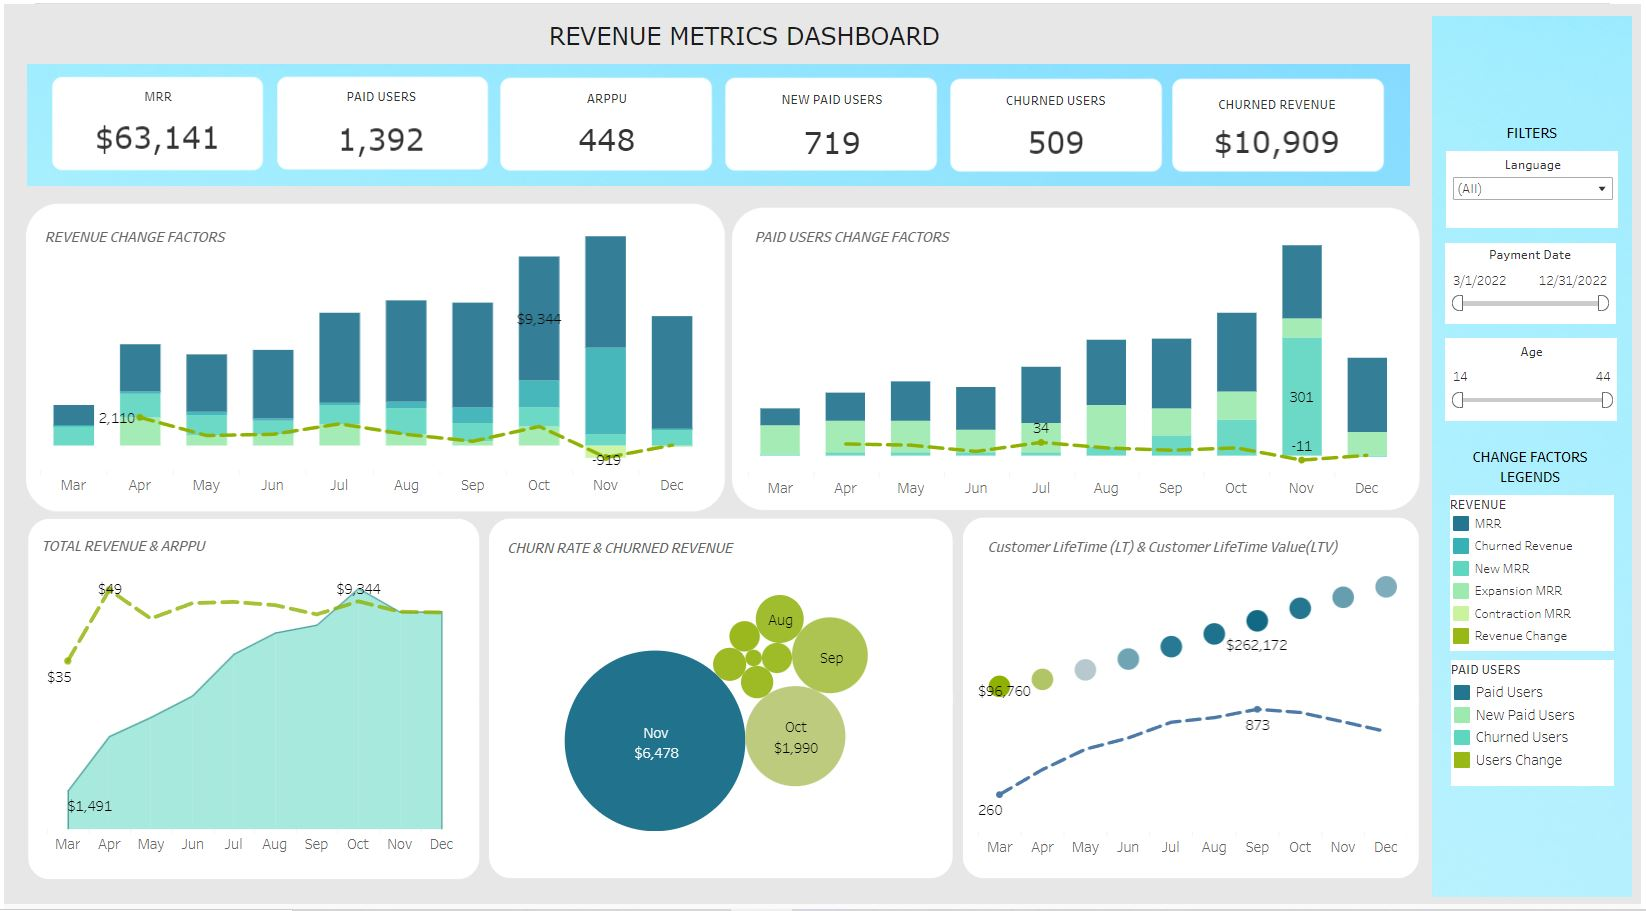

What the dashboard file says about the page in this screenshot:
{"tool":"tableau","page":{"name":"Dashboard","canvas":[1455,800],"ordinal":0},"visuals":[{"type":"image","param":"Image/vivid-blurred-colorful-background.jpg","box":[1269,11,178,783]},{"type":"image","param":"Image/vivid-blurred-colorful-background.jpg","box":[20,53,1230,109]},{"type":"worksheet","title":"MRR","mark":"Automatic","box":[55,68,164,68]},{"type":"worksheet","title":"PAID USERS","mark":"Automatic","box":[263,68,145,72]},{"type":"worksheet","title":"ARPPU","mark":"Automatic","box":[470,70,132,68]},{"type":"worksheet","title":"NEW PAID USERS","mark":"Automatic","box":[660,71,152,72]},{"type":"worksheet","title":"CHURNED USERS","mark":"Automatic","box":[861,72,148,69]},{"type":"worksheet","title":"CHURNED REVENUE","mark":"Automatic","box":[1057,75,149,63]},{"type":"image","param":"Image/Orange Cute Website Analytics Report Statistical Graph.png","box":[593,79,720,540]},{"type":"text","box":[1285,91,146,47]},{"type":"blank","box":[1282,131,153,68]},{"type":"filter","title":"Revenue Change Factors","param":"[federated.1a7kumc030pqyh192tyec12khk0i].[none:language:nk]","box":[1287,135,144,63]},{"type":"text","box":[36.4,192,241.1,30]},{"type":"text","box":[667.2,192,340.9,30]},{"type":"worksheet","title":"Revenue Change Factors","mark":"Line","rows":["Calculation_392587247909769312"],"cols":["payment_date"],"box":[32,196,591,253]},{"type":"worksheet","title":"Users Change Factors","mark":"Line","rows":["Calculation_1051660906000449656"],"cols":["payment_date"],"box":[661,204,579,234]},{"type":"blank","box":[1281,212,152,72]},{"type":"filter","title":"Users Change Factors","param":"[federated.1a7kumc030pqyh192tyec12khk0i].[none:payment_date:qk]","box":[1284,215,145,68]},{"type":"blank","box":[1281,297,153,74]},{"type":"filter","title":"Revenue Change Factors","param":"[federated.1a7kumc030pqyh192tyec12khk0i].[none:age:qk]","box":[1284,301,148,64]},{"type":"text","box":[1283,388,147,47]},{"type":"image","param":"Image/Orange Cute Website Analytics Report Statistical Graph.png","box":[394,389,487,364]},{"type":"image","param":"Image/Orange Cute Website Analytics Report Statistical Graph.png","box":[814,389,482,358]},{"type":"legend","title":"Revenue Change Factors","param":"[federated.1a7kumc030pqyh192tyec12khk0i].[:Measure Names]","box":[1285,436,146.4,139]},{"type":"text","box":[33,467,340,30]},{"type":"text","box":[874,468,340,30]},{"type":"text","box":[447,469,341,30]},{"type":"worksheet","title":"LTV and LT","mark":"Automatic","rows":["Calculation_392587247890960479","Calculation_392587247890853982"],"cols":["payment_date"],"box":[866,504,381,253]},{"type":"worksheet","title":"Total Revenue & ARPPU","mark":"Line","rows":["Calculation_1051660906017190010","Calculation_123497170092748949"],"cols":["payment_date"],"box":[38,508,369,247]},{"type":"worksheet","title":"Churn Rate and Churned Revenue","mark":"Circle","box":[479,525,308,210]},{"type":"legend","title":"Users Change Factors","param":"[federated.1a7kumc030pqyh192tyec12khk0i].[:Measure Names]","box":[1285.9,583,145.5,112]}]}

Visuals, with their boxes in screenshot pixels (x1, y1, x2, y2), scaled from the page's 1455x800 canvas onto the 1646x911 screenshot:
image: 1436, 13, 1637, 904
image: 23, 60, 1414, 184
"MRR" worksheet: 62, 77, 248, 155
"PAID USERS" worksheet: 298, 77, 462, 159
"ARPPU" worksheet: 532, 80, 681, 157
"NEW PAID USERS" worksheet: 747, 81, 919, 163
"CHURNED USERS" worksheet: 974, 82, 1141, 161
"CHURNED REVENUE" worksheet: 1196, 85, 1364, 157
image: 671, 90, 1485, 705
text: 1454, 104, 1619, 157
blank: 1450, 149, 1623, 227
"Revenue Change Factors" filter: 1456, 154, 1619, 225
text: 41, 219, 314, 253
text: 755, 219, 1140, 253
"Revenue Change Factors" worksheet (Line marks): 36, 223, 705, 511
"Users Change Factors" worksheet (Line marks): 748, 232, 1403, 499
blank: 1449, 241, 1621, 323
"Users Change Factors" filter: 1453, 245, 1617, 322
blank: 1449, 338, 1622, 422
"Revenue Change Factors" filter: 1453, 343, 1620, 416
text: 1451, 442, 1618, 495
image: 446, 443, 997, 857
image: 921, 443, 1466, 851
"Revenue Change Factors" legend: 1454, 496, 1619, 655
text: 37, 532, 422, 566
text: 989, 533, 1373, 567
text: 506, 534, 891, 568
"LTV and LT" worksheet: 980, 574, 1411, 862
"Total Revenue & ARPPU" worksheet (Line marks): 43, 578, 460, 860
"Churn Rate and Churned Revenue" worksheet (Circle marks): 542, 598, 890, 837
"Users Change Factors" legend: 1455, 664, 1619, 791
